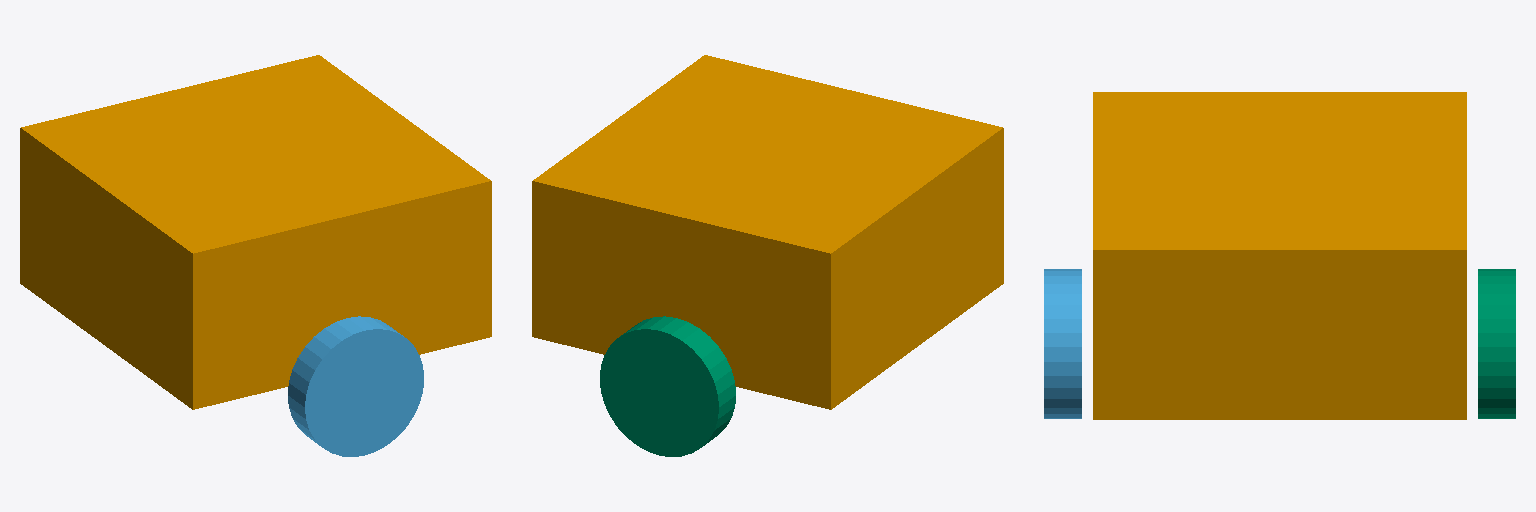
robot.urdf — simple_robot:
<?xml version="1.0"?>
<robot name="simple_robot">
  <link name="base_link">
    <visual>
      <geometry>
        <box size="0.5 0.5 0.25"/>
      </geometry>
      <pose>0 0 0.125 0 0 0</pose>
    </visual>
  </link>
  <link name="left_wheel">
    <visual>
      <geometry>
        <cylinder radius="0.1" length="0.05"/>
      </geometry>
    </visual>
  </link>
  <joint name="left_wheel_joint" type="continuous">
    <parent link="base_link"/>
    <child link="left_wheel"/>
    <origin xyz="0 -0.29 -0.13" rpy="1.5708 0 0"/>
    <axis xyz="0 1 0"/>
  </joint>
  <link name="right_wheel">
    <visual>
      <geometry>
        <cylinder radius="0.1" length="0.05"/>
      </geometry>
    </visual>
  </link>
  <joint name="right_wheel_joint" type="continuous">
    <parent link="base_link"/>
    <child link="right_wheel"/>
    <origin xyz="0 0.29 -0.13" rpy="1.5708 0 0"/>
    <axis xyz="0 1 0"/>
  </joint>

</robot>

--- Render facts (derived) ---
Views: 3 orthographic renders of the robot side by side, from view 1: azimuth 30°, elevation 25°; view 2: azimuth 150°, elevation 25°; view 3: azimuth 270°, elevation 25°.
Model simple_robot with 3 links and 2 joints (2 continuous), rooted at base_link, posed every joint at zero.
Links seen in each view (by area): view 1: base_link, left_wheel; view 2: base_link, right_wheel; view 3: base_link, left_wheel, right_wheel.
Boxes of the visible links, x1,y1,x2,y2 form: base_link: (20,55,491,409); left_wheel: (288,316,423,456); base_link: (532,55,1003,409); right_wheel: (600,316,735,456); base_link: (1093,92,1466,419); left_wheel: (1044,269,1081,418); right_wheel: (1478,269,1515,418).
Bounding box of the posed robot: 0.5 × 0.63 × 0.355 m (x, y, z).
Geometry: primitives only (box / cylinder / sphere), no mesh files.